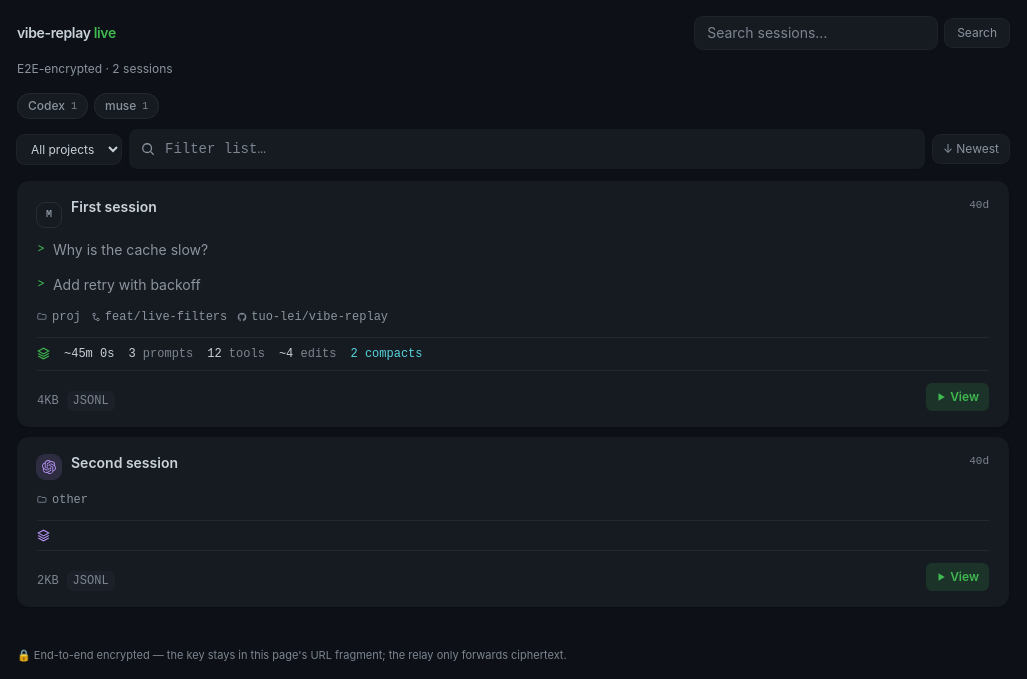
Test: LiveApp › filters the list by project and by text
expect the text "E2E-encrypted · 2 sessions" is shown: met, box [17, 61, 173, 76]
Select "other (1)" in the dropdown named "Filter by project" at point(69, 149), box [17, 134, 121, 164]
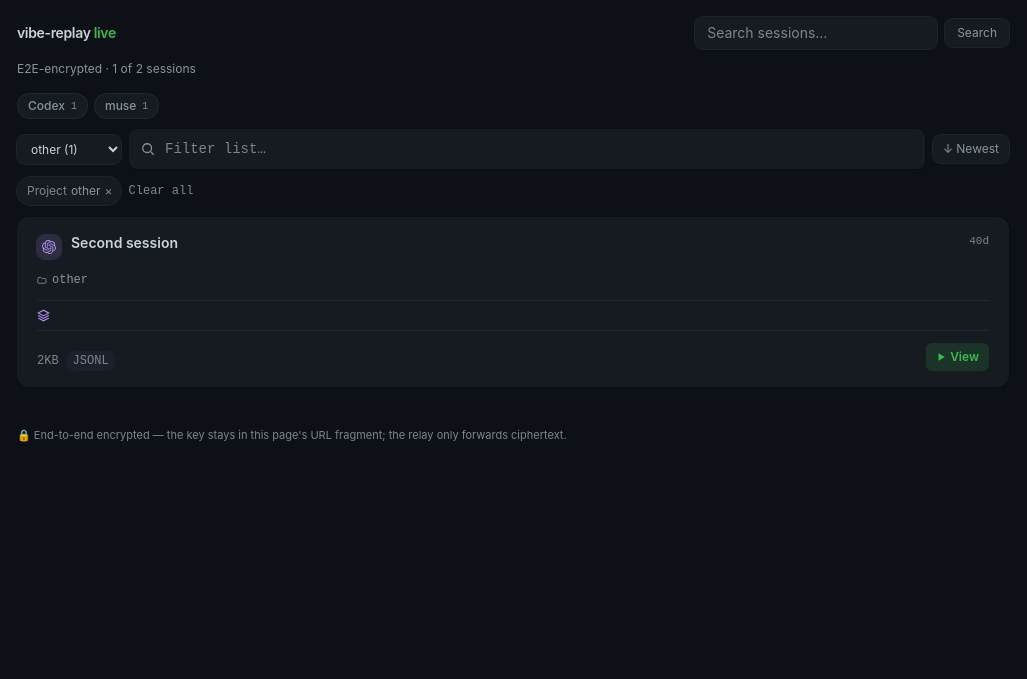
expect the text "Second session" is shown: met, box [71, 233, 178, 252]
expect the text "E2E-encrypted · 1 of 2 sessions" is shown: met, box [17, 61, 196, 76]
expect the button "First session" is gone: met
Clearing the project select, then filtering by text instead.
Select "All projects" in the dropdown named "Filter by project" at point(69, 149), box [17, 134, 121, 164]
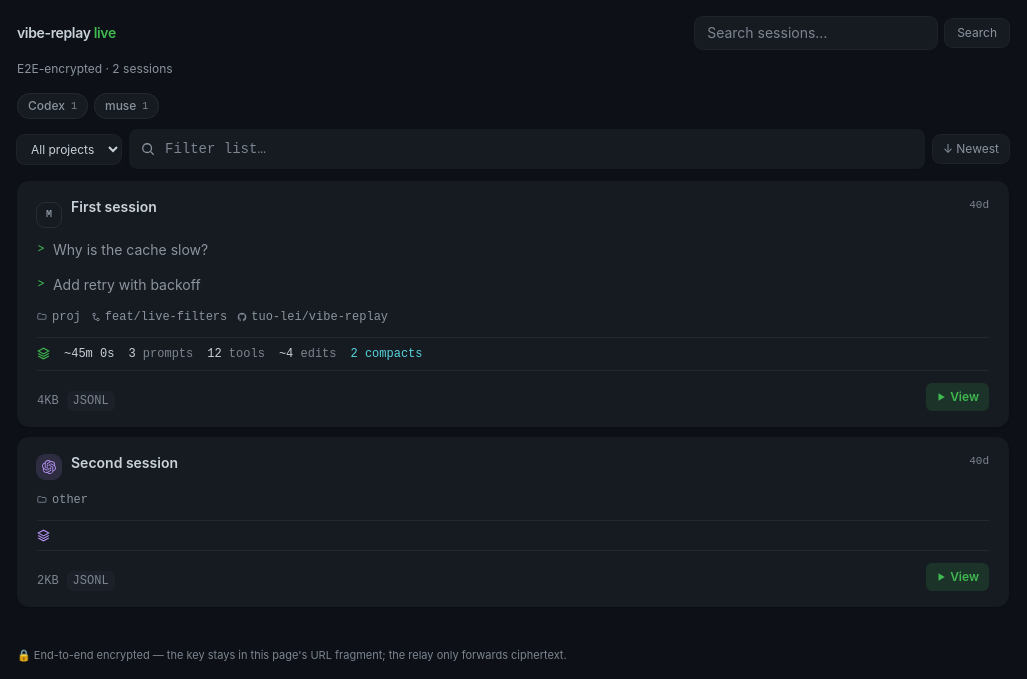
Type "first" into the field with placeholder "Filter list…" at point(527, 149), box [129, 129, 925, 169]
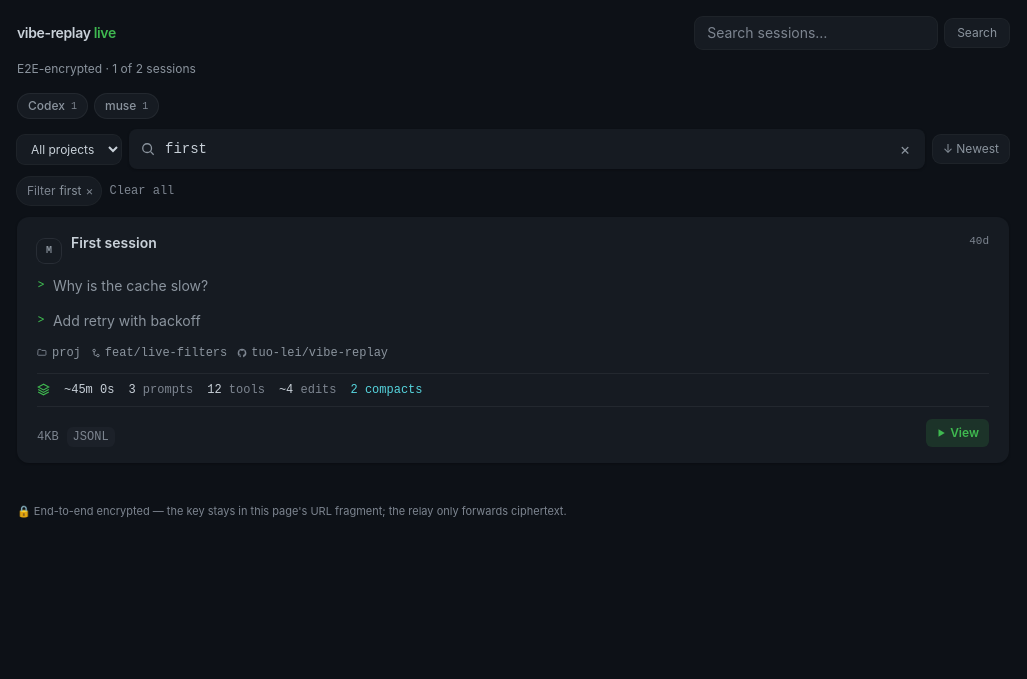
expect the text "First session" is shown: met, box [71, 233, 157, 252]
expect the text "E2E-encrypted · 1 of 2 sessions" is shown: met, box [17, 61, 196, 76]
expect the button "Second session" is gone: met
"No sessions match" empty state when nothing matches.
Replace the text in the field with placeholder "Filter list…" with "zzz-no-match" at point(527, 149), box [129, 129, 925, 169]
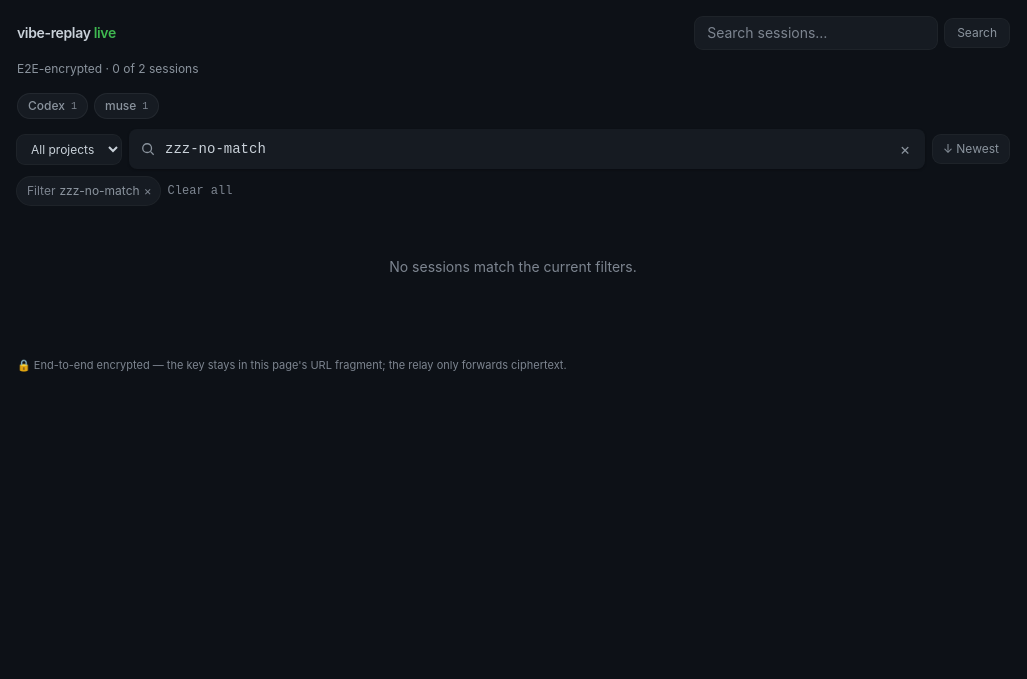
expect the text "No sessions match the current filters." is shown: met, box [389, 258, 637, 275]
Clear all restores everything.
Click the button "Clear all" at point(200, 191), box [168, 183, 232, 199]
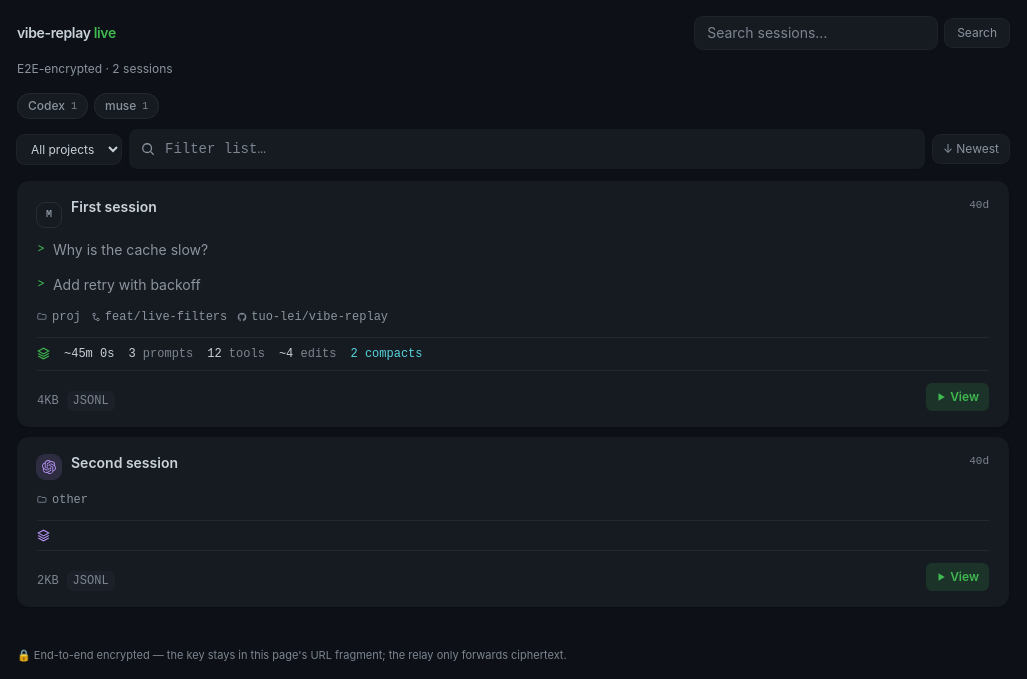
expect the text "E2E-encrypted · 2 sessions" is shown: met, box [17, 61, 173, 76]
